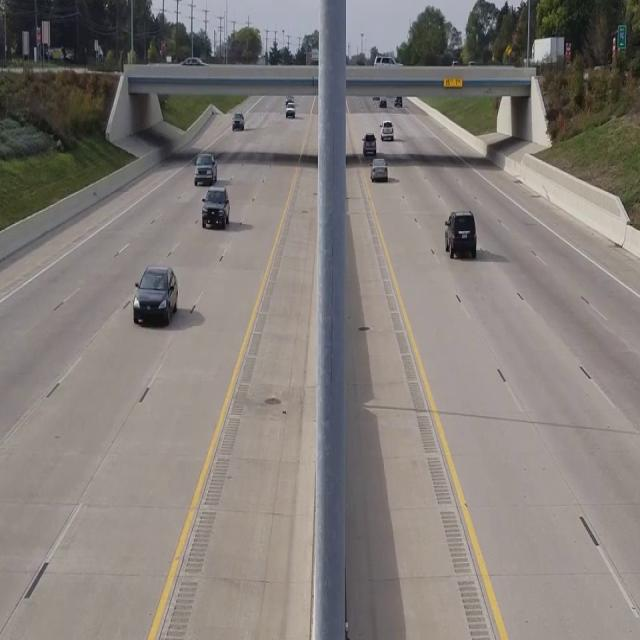car: (133, 265, 178, 326), (444, 211, 476, 258), (201, 186, 229, 229), (194, 153, 217, 185), (371, 156, 387, 182), (362, 133, 376, 155), (380, 120, 392, 140), (181, 56, 205, 66), (232, 112, 244, 130), (285, 96, 295, 117)
